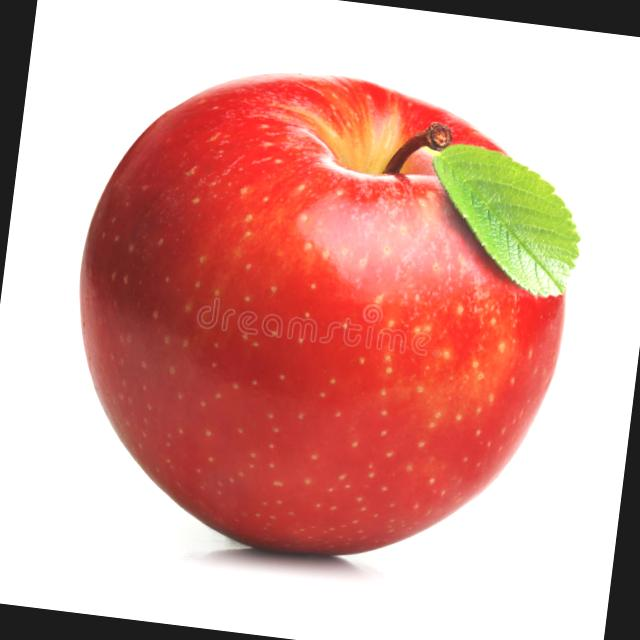apple: (44, 44, 595, 594)
